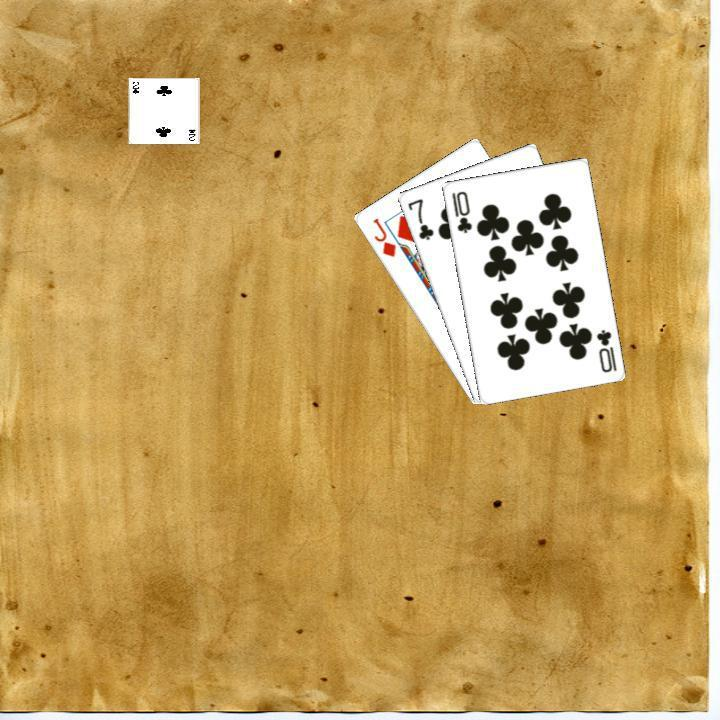10: (447, 186, 473, 235), (592, 325, 618, 374)
7: (403, 194, 435, 242)
J: (368, 213, 398, 259)
